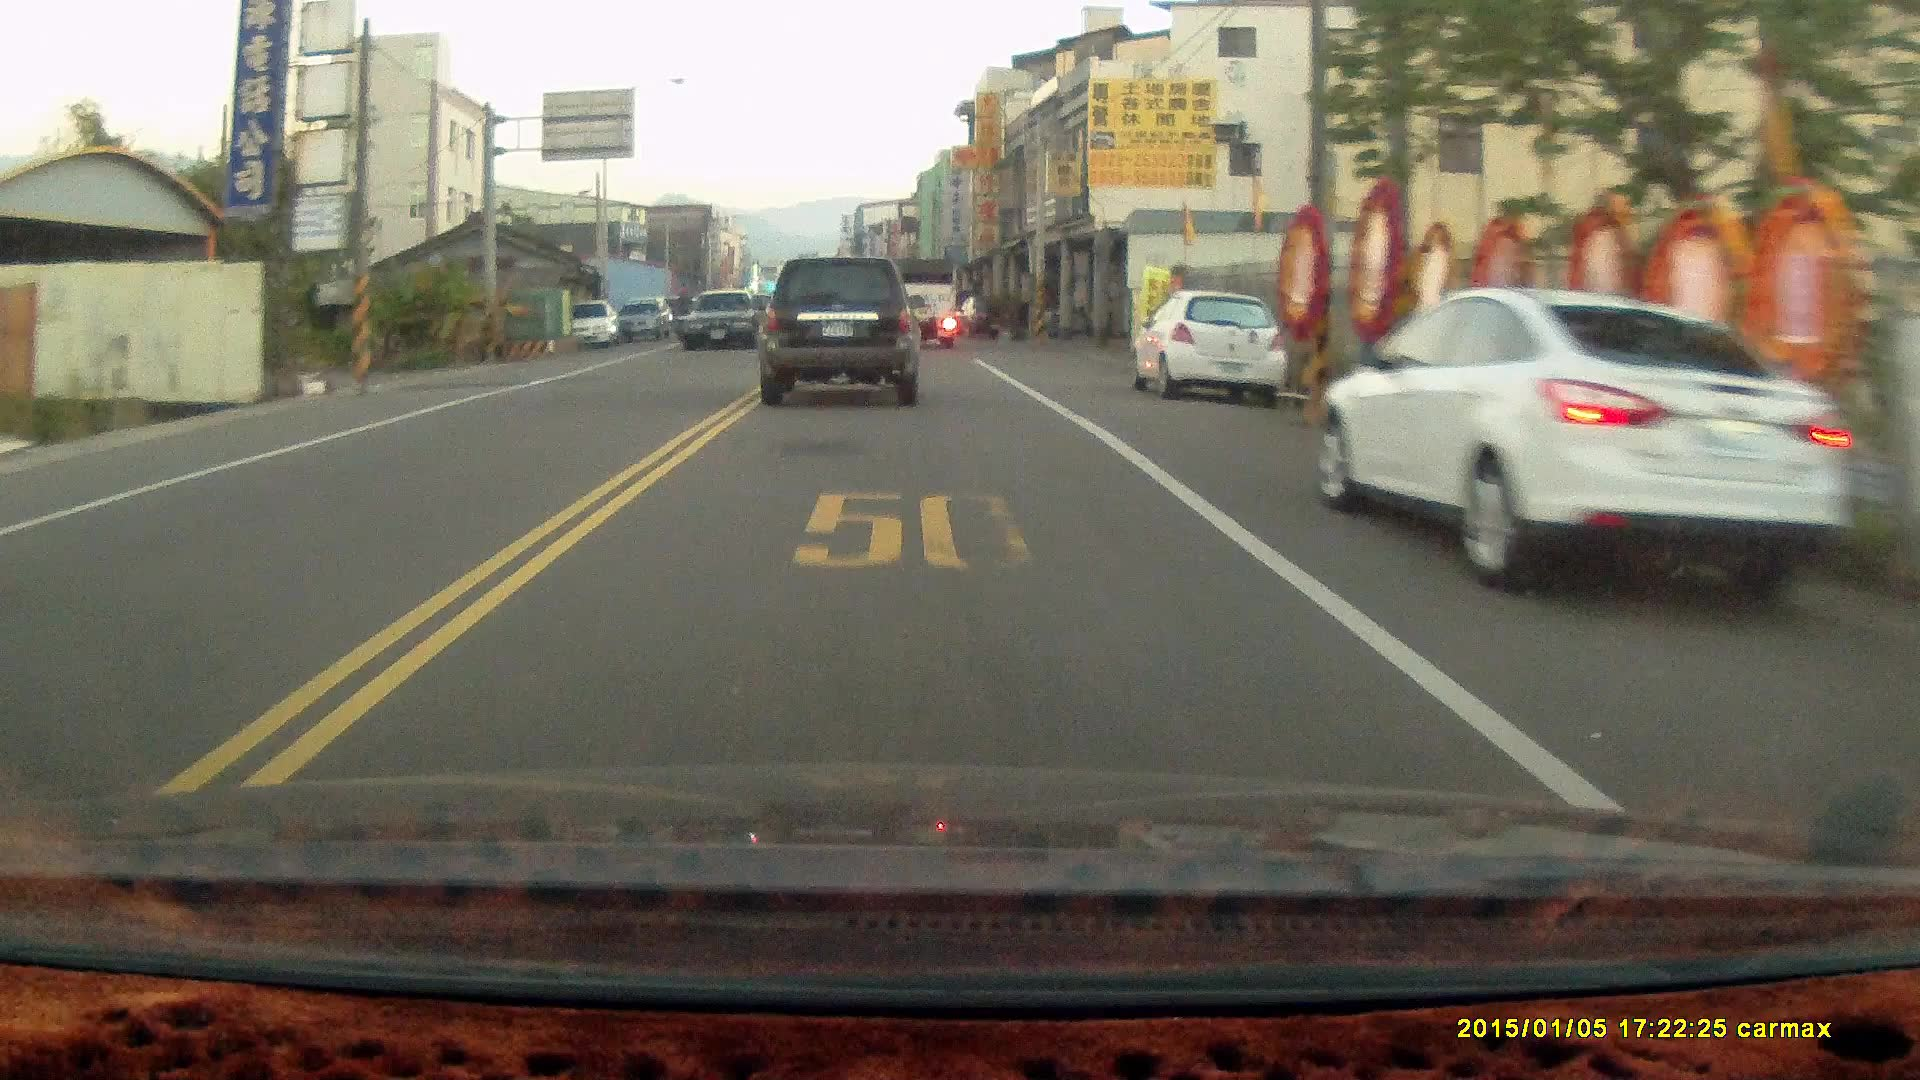vehicle: (1321, 286, 1871, 605), (756, 252, 922, 402), (1130, 291, 1288, 411), (886, 258, 963, 353), (684, 287, 765, 352)
